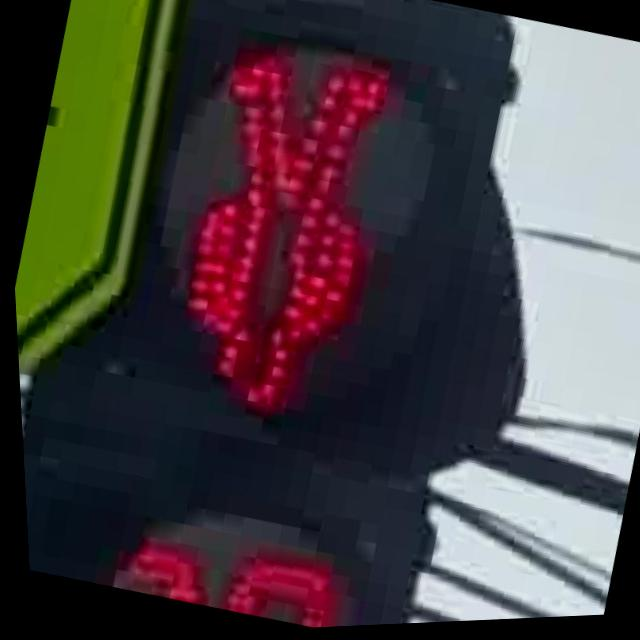red_light: (129, 18, 437, 454)
